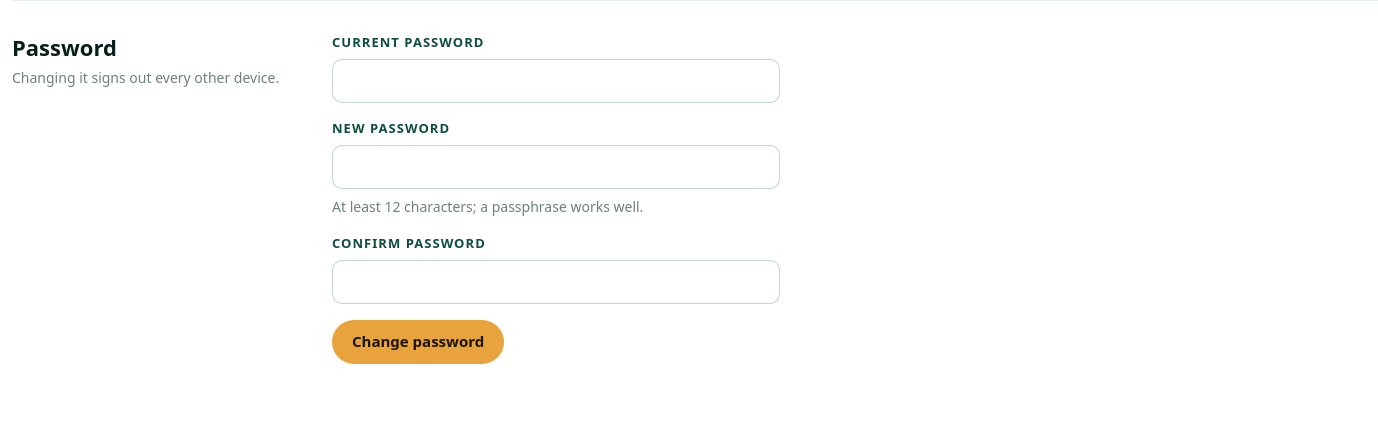
Test: RFC-21 R7 PasswordSection › changes the password and clears the form
The width and height of the screenshot is (1378, 445).
In the password field labelled "Current password": (556, 81) [332,59,780,103], type "old passphrase here"
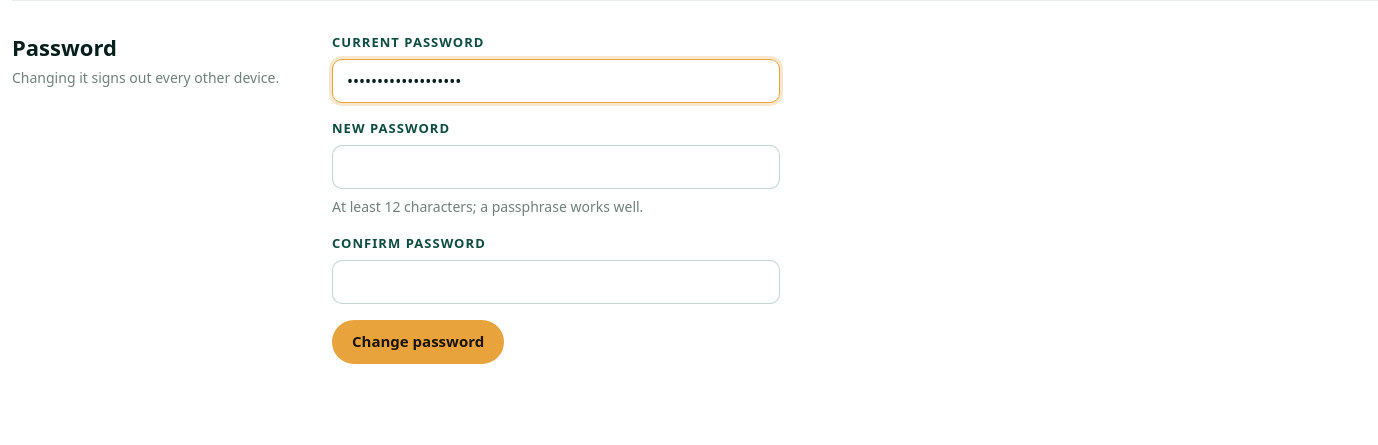
In the password field labelled "New password": (556, 167) [332,145,780,189], type "new passphrase here!"
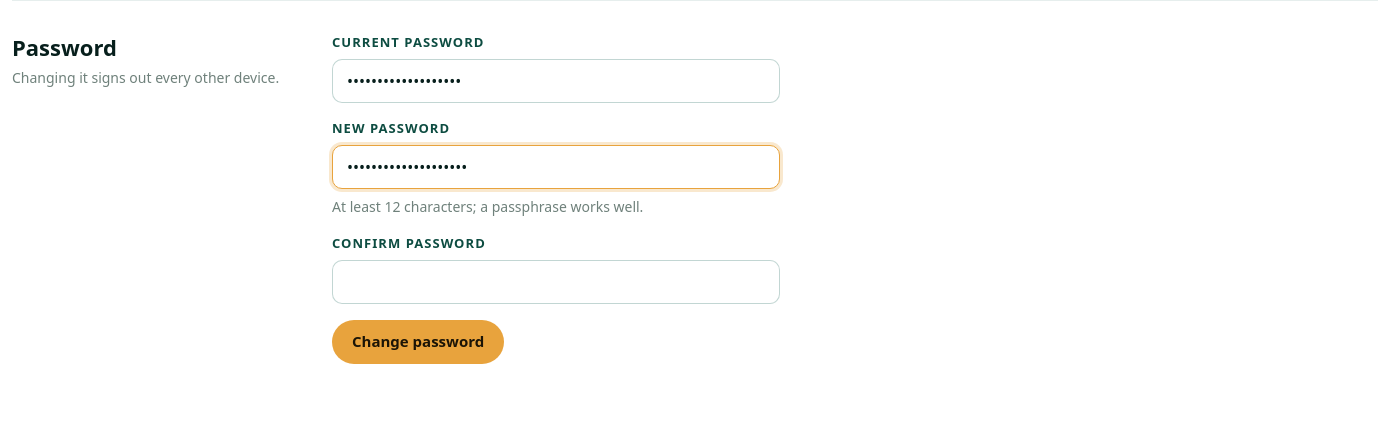
In the password field labelled "Confirm password": (556, 282) [332,260,780,304], type "new passphrase here!"
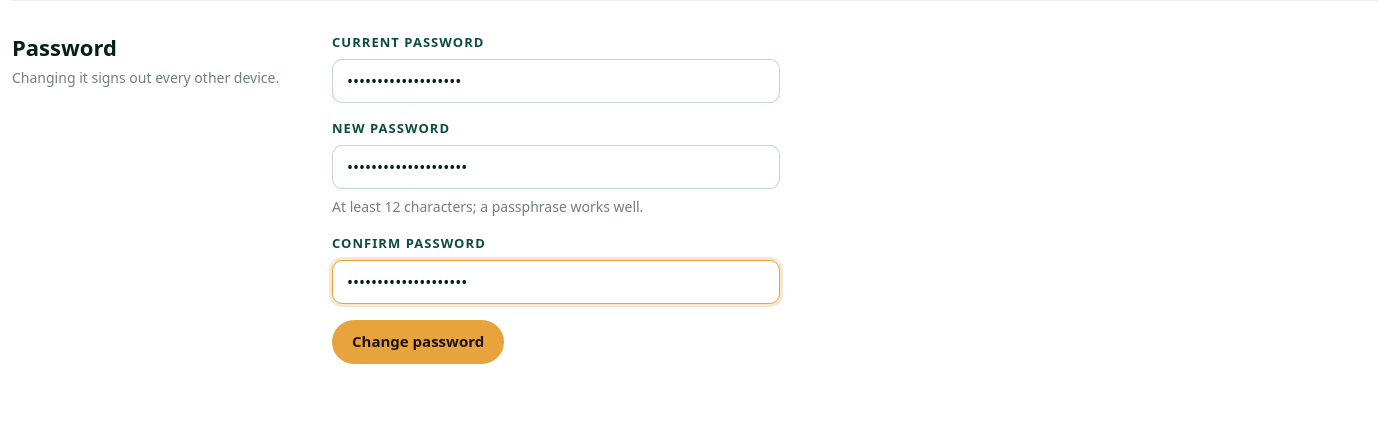
Click the button "Change password": (418, 342) [332,320,504,364]
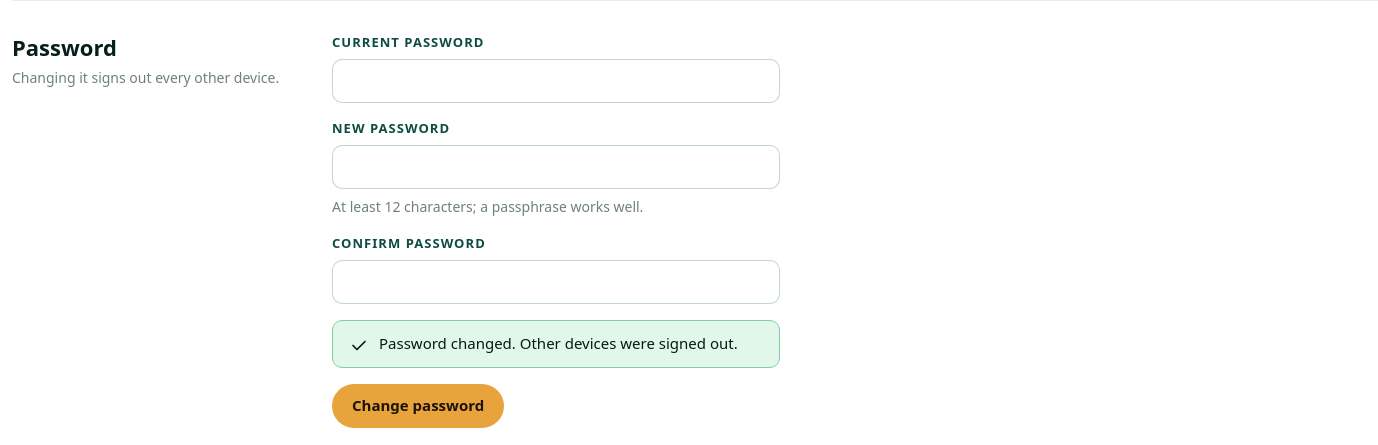
expect the message reads "Password changed. Other devices were signed out.": met, box [379,333,738,353]
expect the password field labelled "Current password" is empty: met, box [332,59,780,103]
